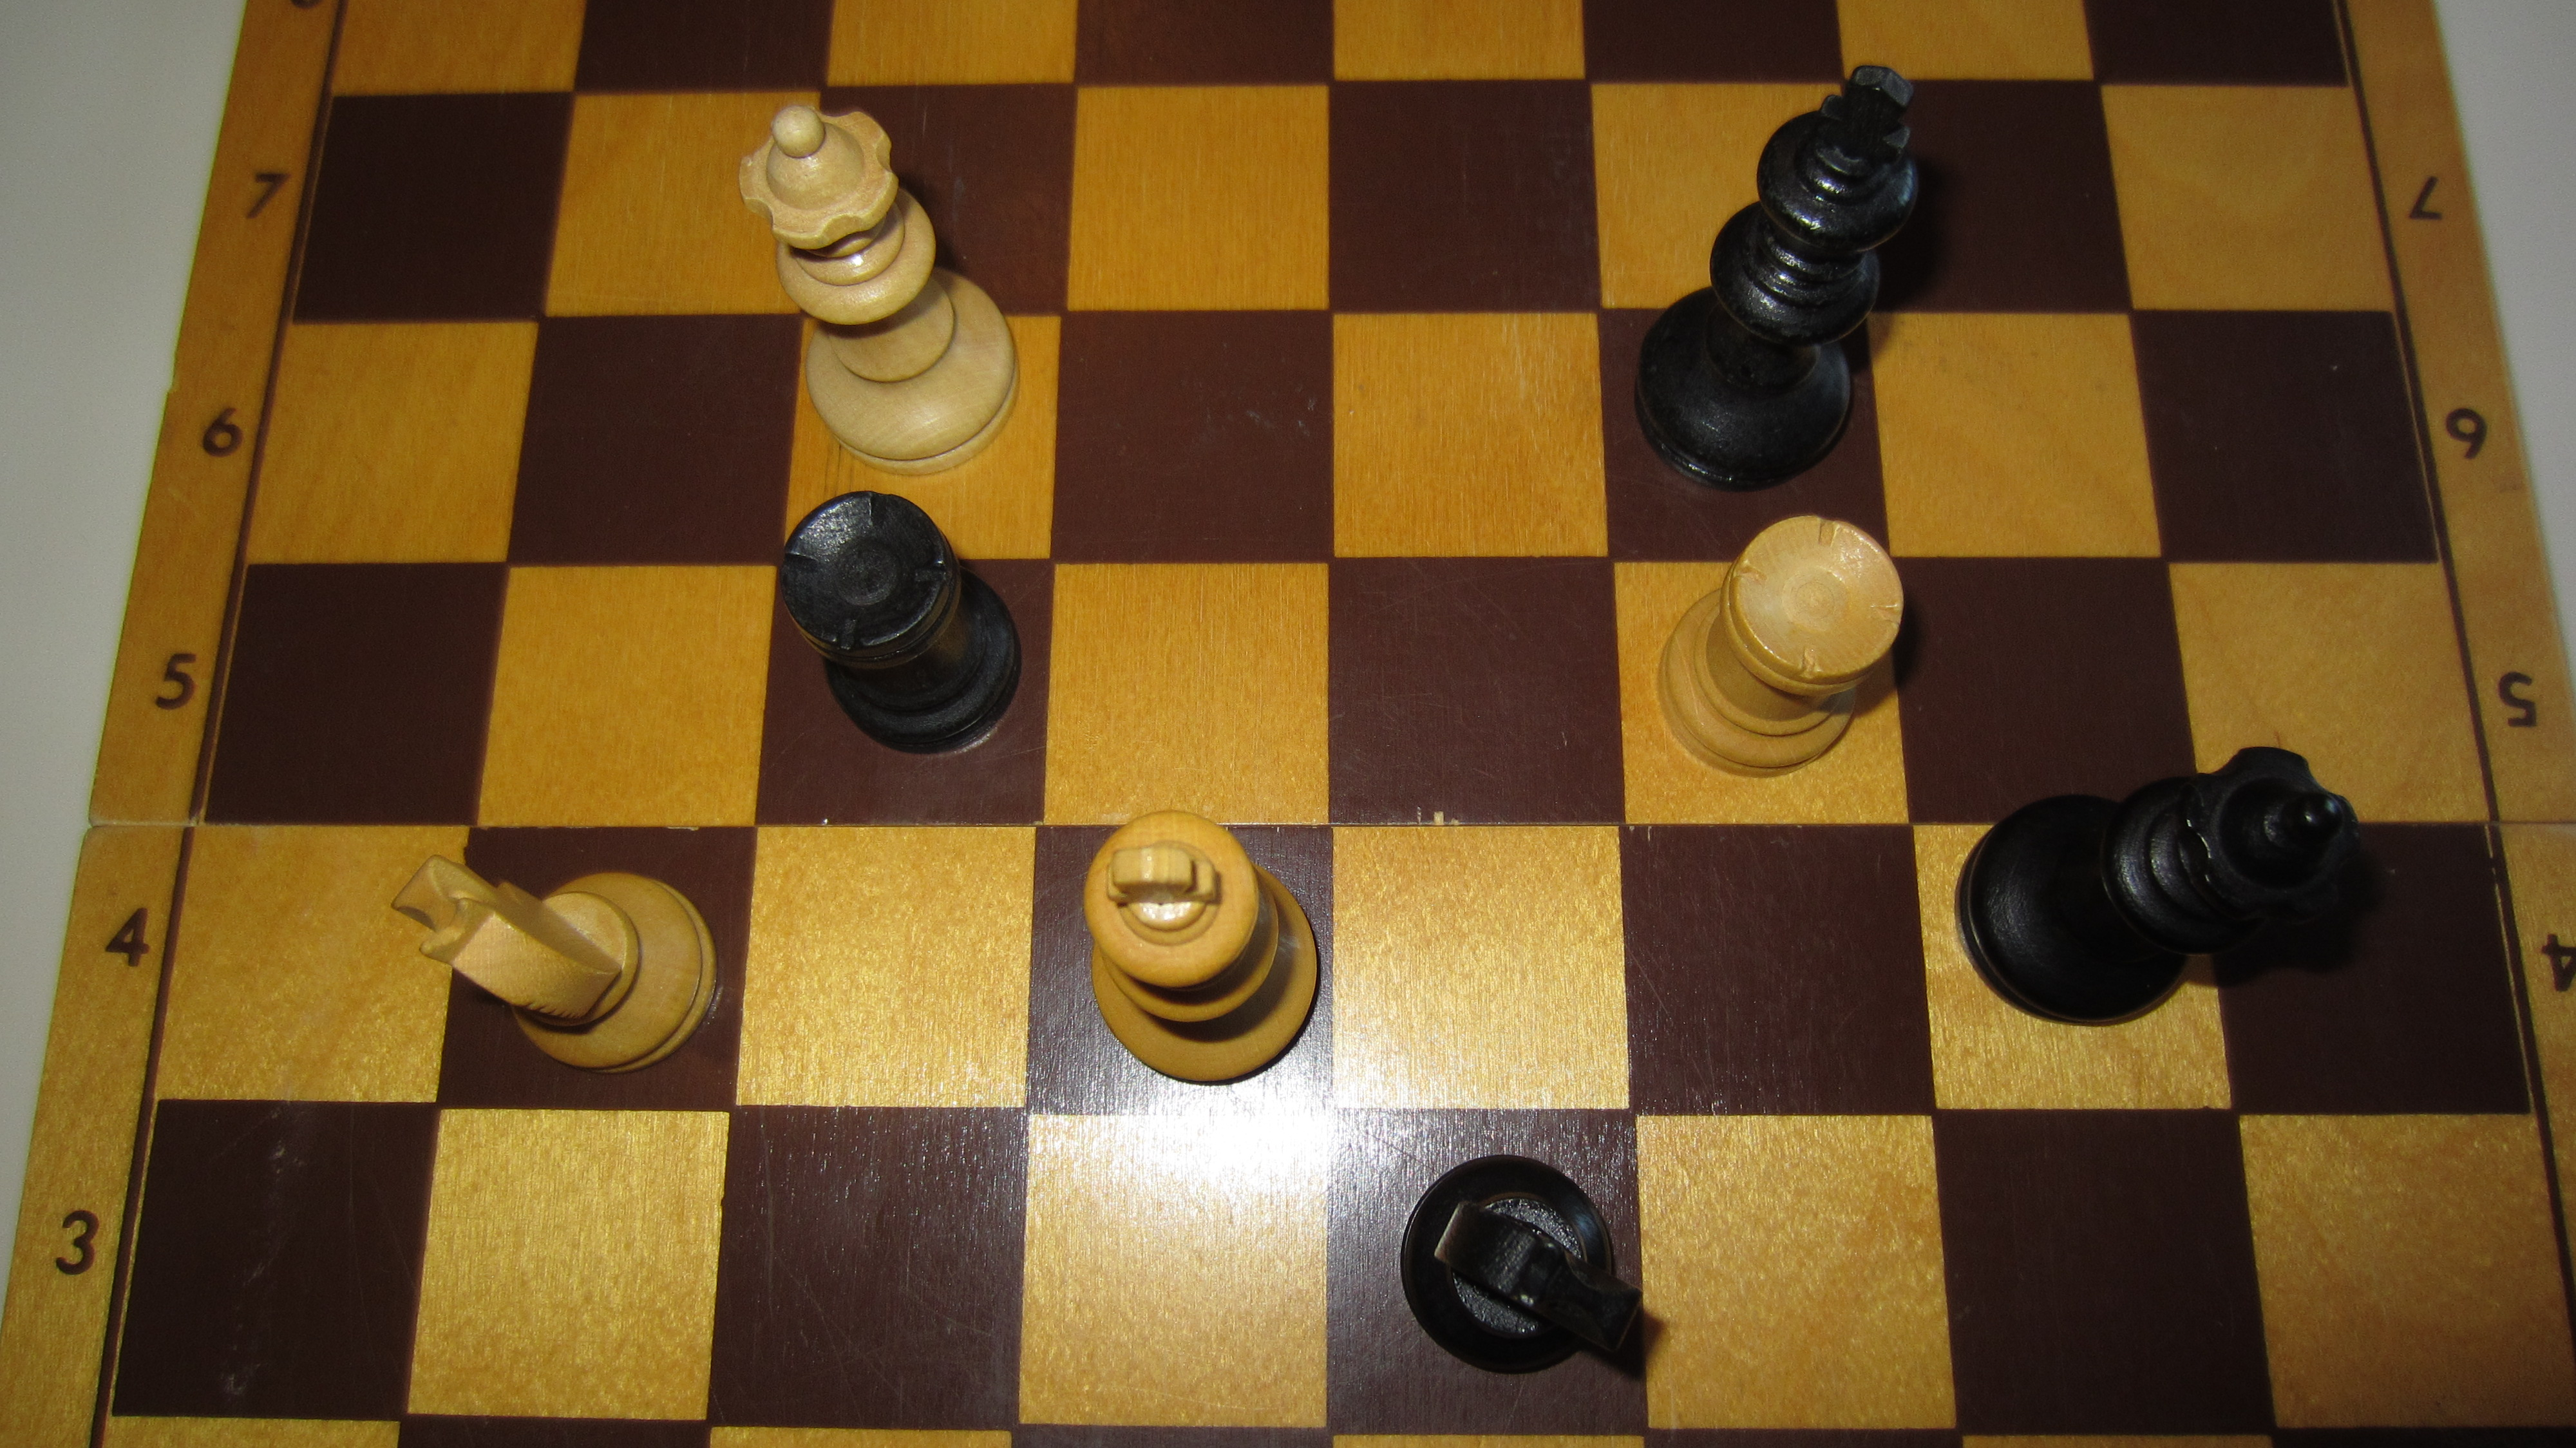black-king: (1633, 62, 1925, 492)
black-knight: (1398, 1152, 1645, 1375)
black-queen: (1951, 747, 2367, 1028)
black-rook: (775, 490, 1026, 754)
white-king: (1081, 805, 1320, 1085)
white-knight: (387, 850, 718, 1076)
white-queen: (734, 99, 1019, 476)
white-rook: (1654, 513, 1905, 781)
